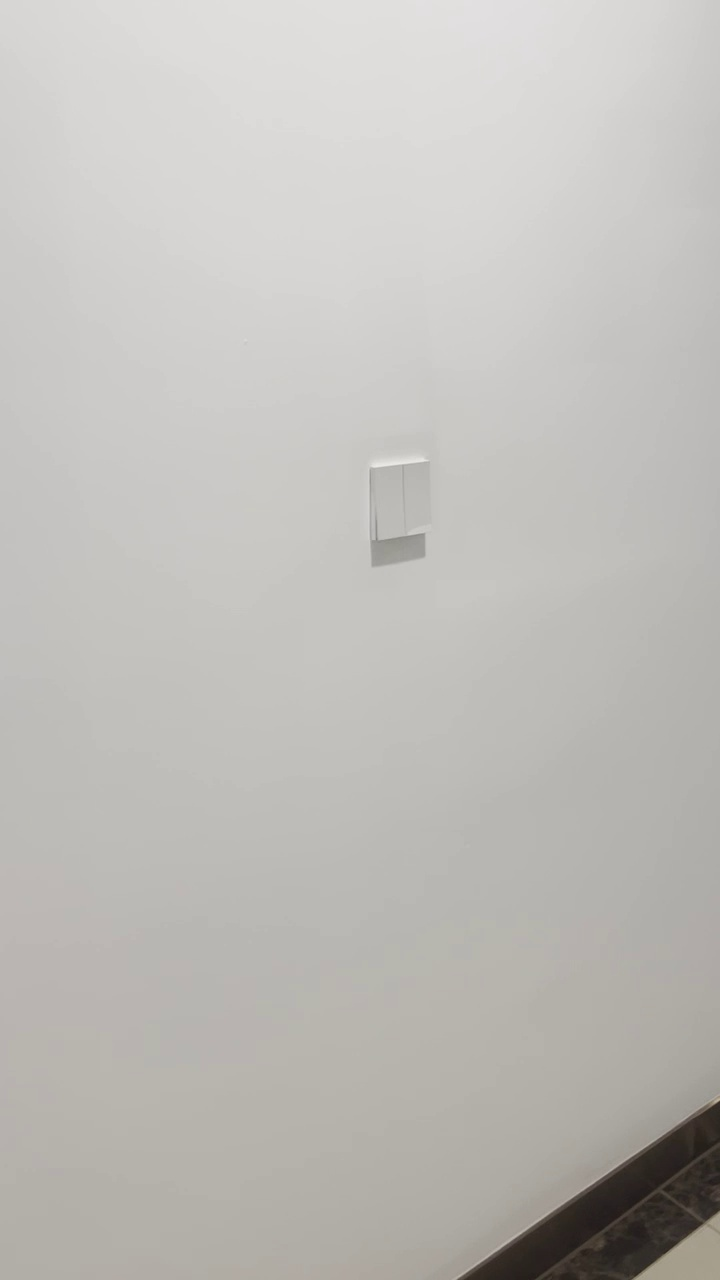button: (367, 456, 431, 542)
